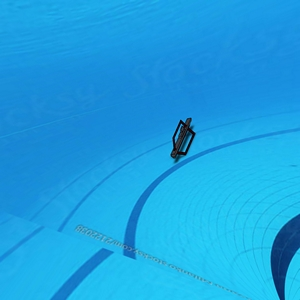submarine: (165, 110, 199, 158)
